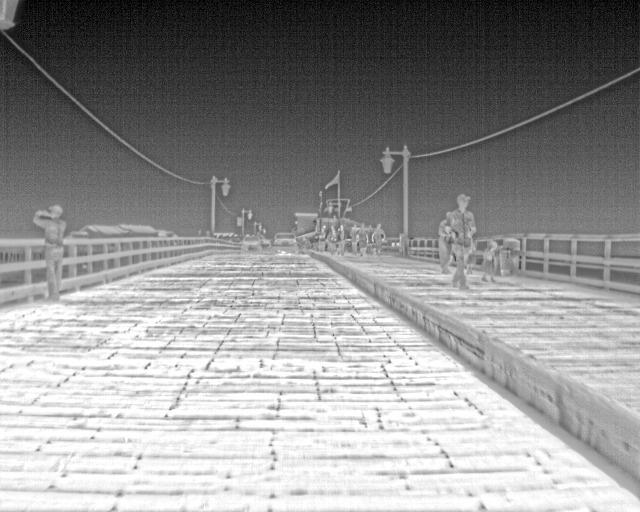bicycle: (271, 234, 301, 255), (239, 233, 265, 255)
empty: (32, 204, 69, 299), (447, 194, 477, 286), (481, 241, 501, 281), (438, 220, 452, 270), (371, 223, 386, 257), (356, 223, 370, 257), (349, 222, 362, 255), (315, 224, 328, 254), (335, 222, 347, 254), (326, 224, 338, 255)
